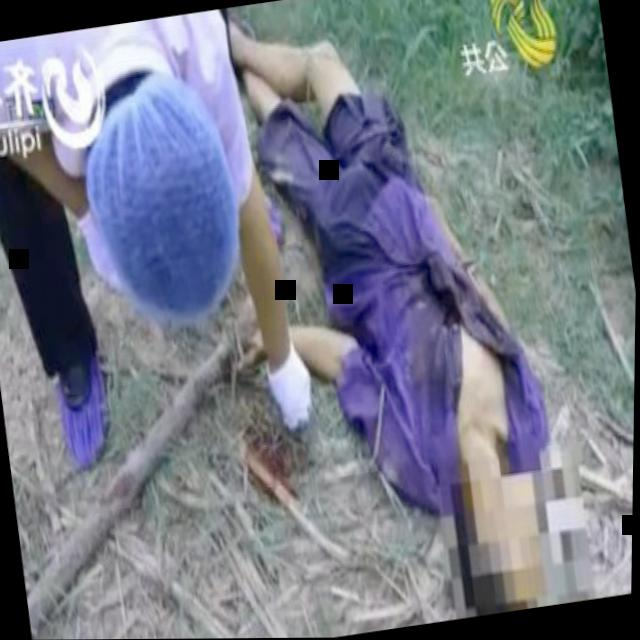Fall-Detected: (216, 0, 612, 639)
